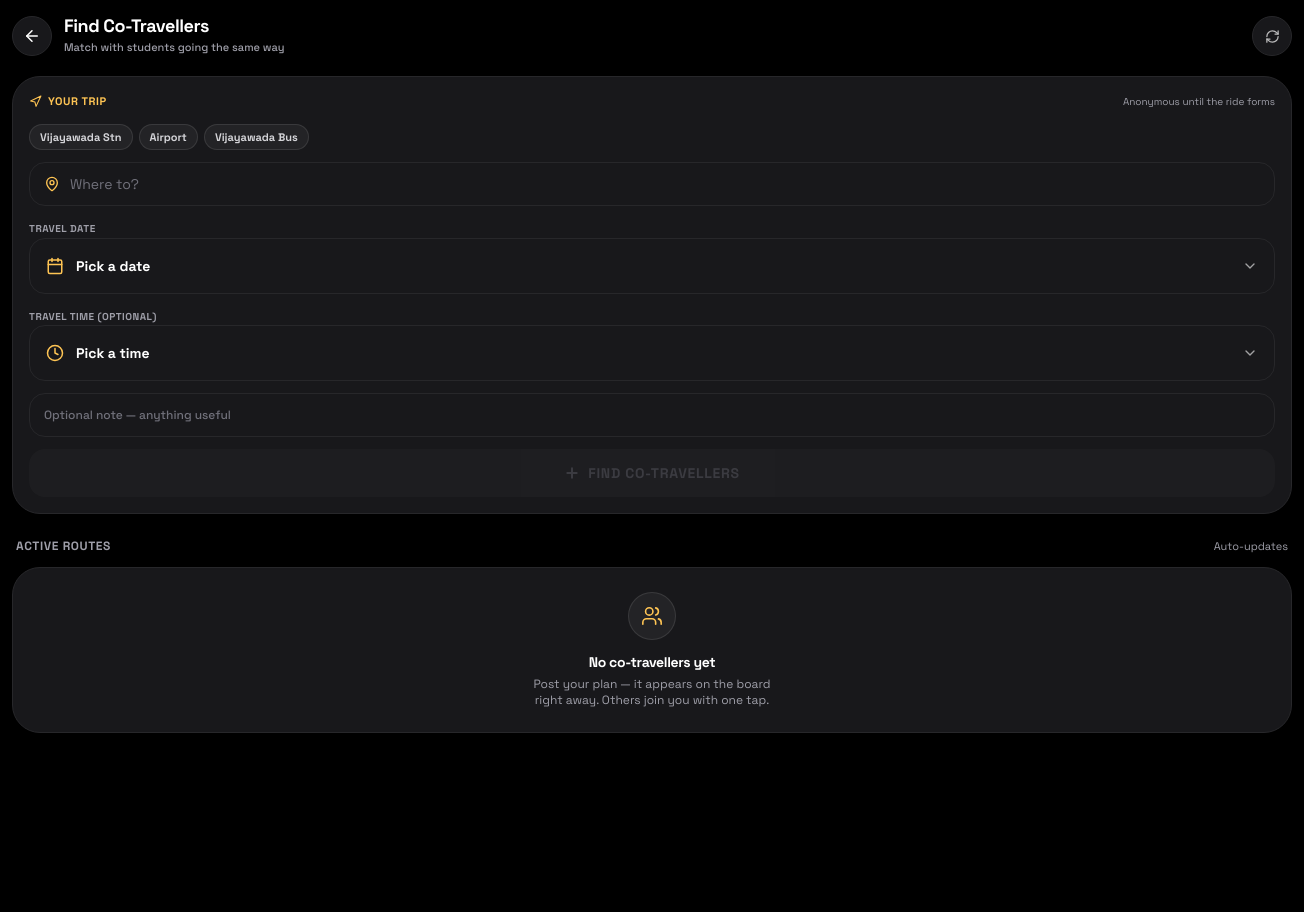
RideWantsView Component › Native Android / OS Date and Time Pickers › renders native Travel Date input with min=today and updates displayed label on change
The width and height of the screenshot is (1304, 912).
Expected: the text "No co-travellers yet" is shown, x1=589 y1=652 x2=715 y2=670
Expected: the text "Pick a date" is shown, x1=76 y1=256 x2=150 y2=274
Change date
Type "2028-12-25" into the date field named "Travel date" at [652, 266], box x1=29 y1=238 x2=1275 y2=294
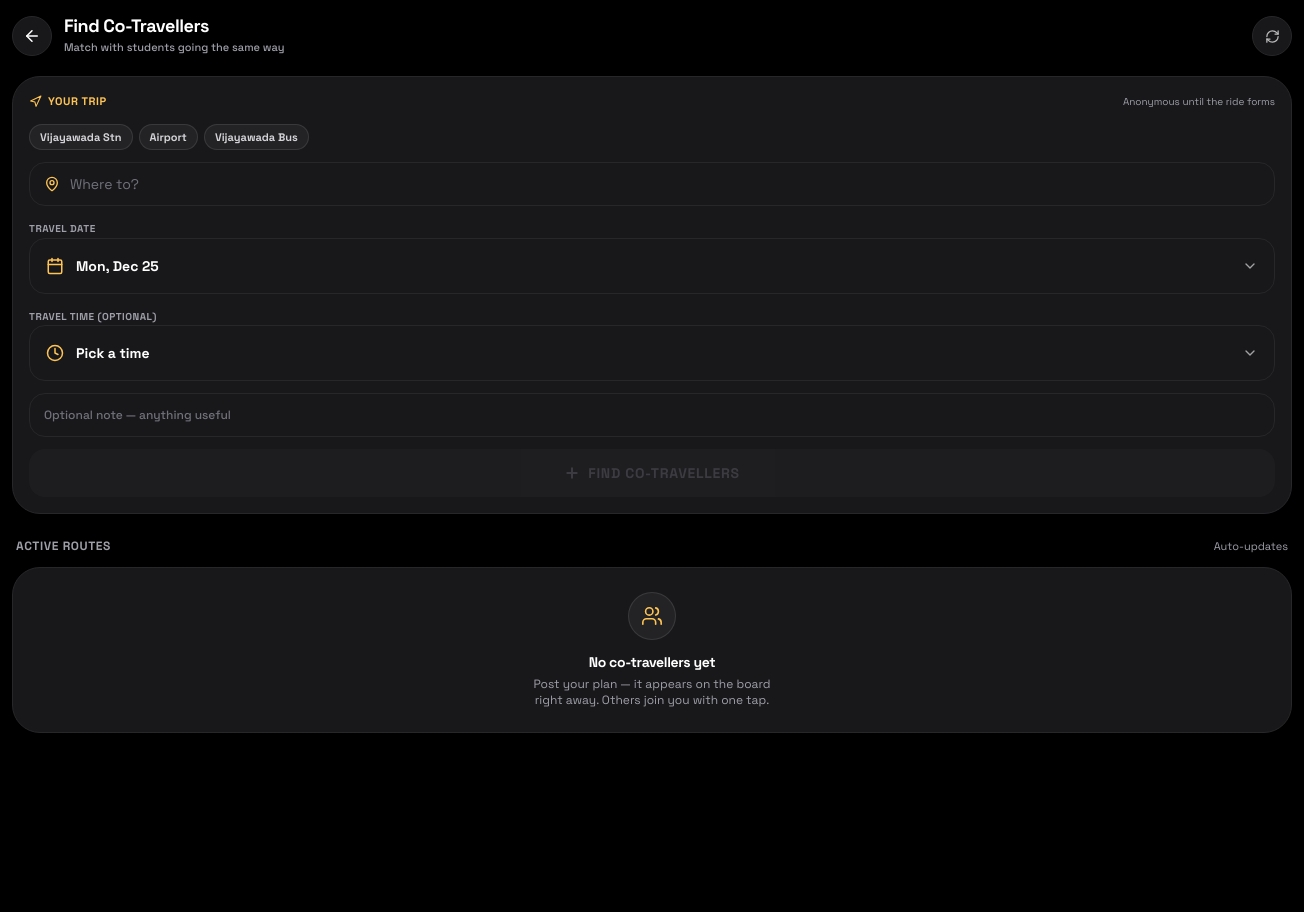
Result: the text "Mon, Dec 25" is shown at x1=76 y1=256 x2=159 y2=274
